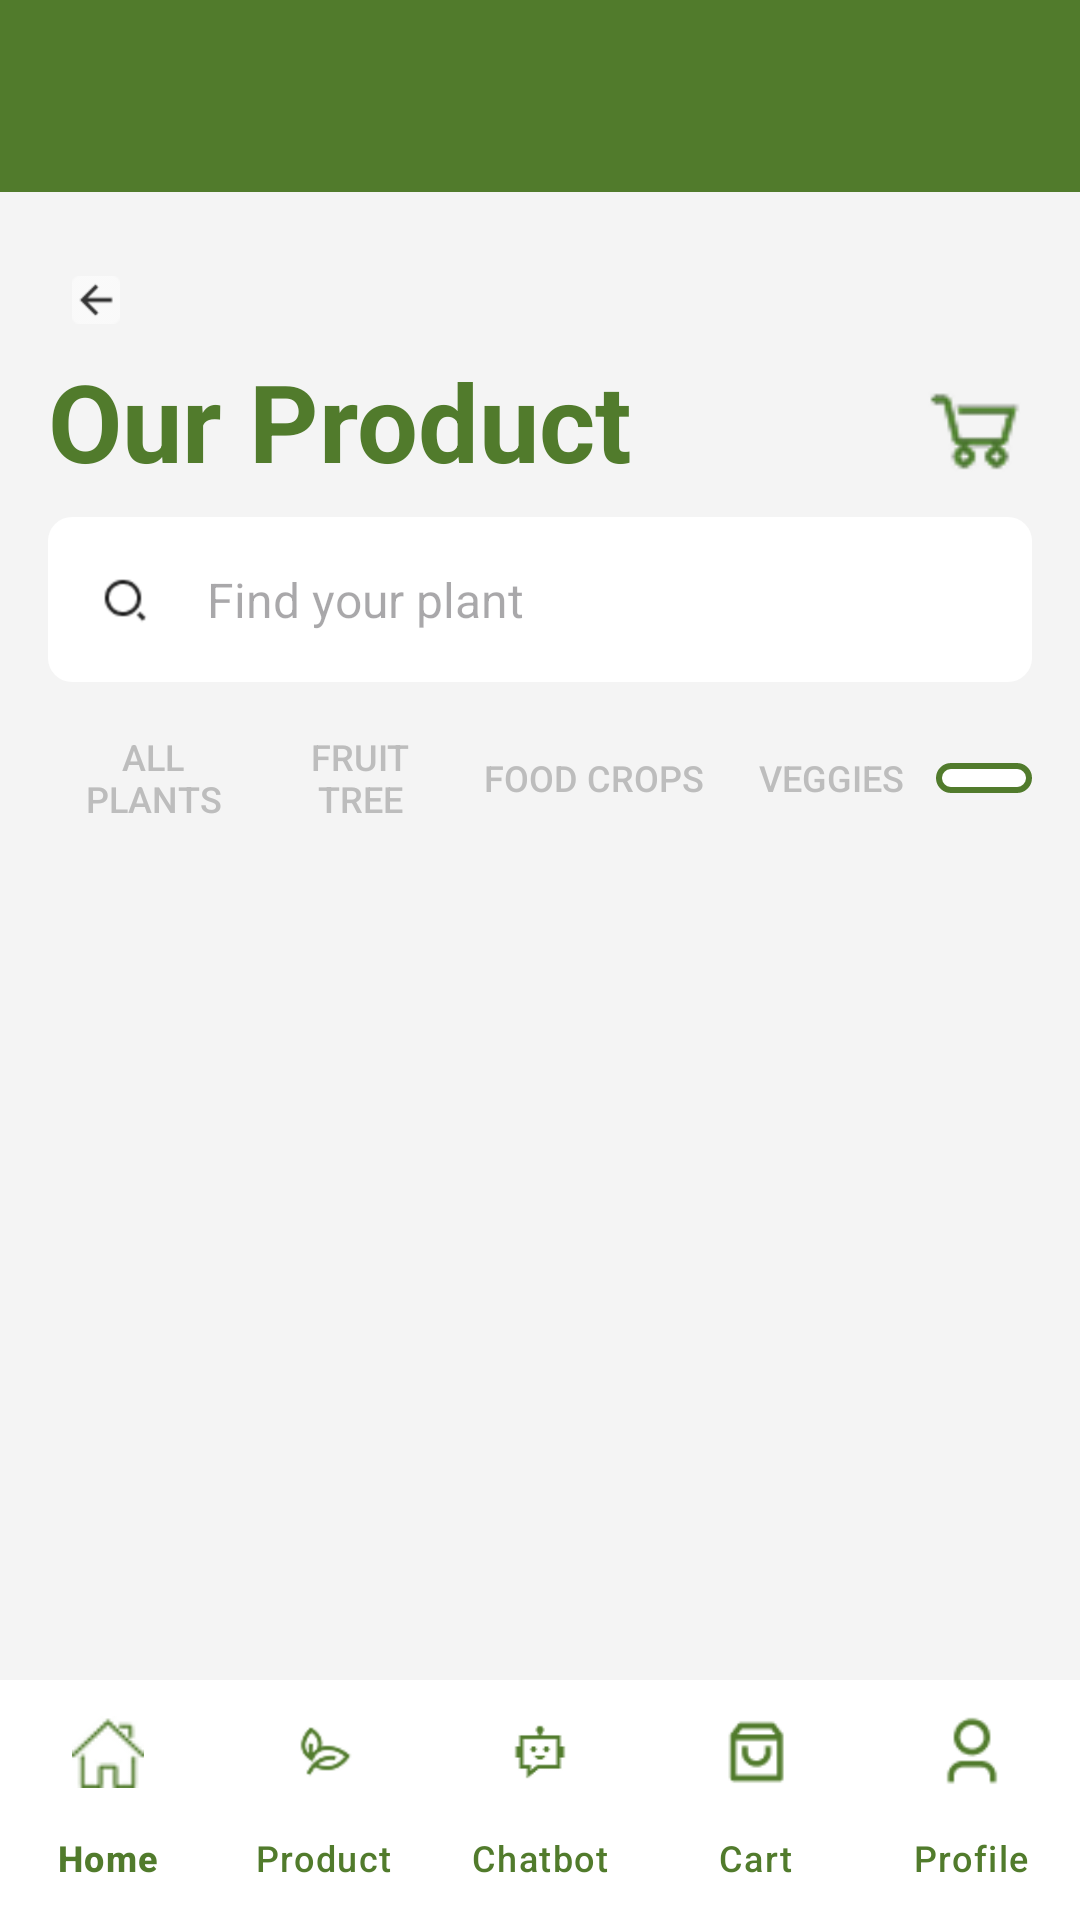

Named icons in this screenshot (1080*1920) and their centers, (x=x, y=y):
Back: (x=96, y=300)
homepage search: (x=125, y=600)
shoppingcart: (x=974, y=431)
